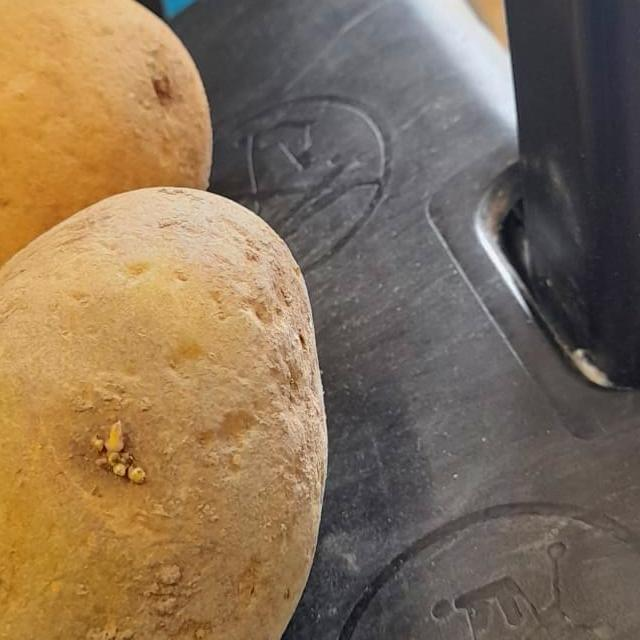potato: (0, 149, 353, 640), (0, 0, 243, 406)
